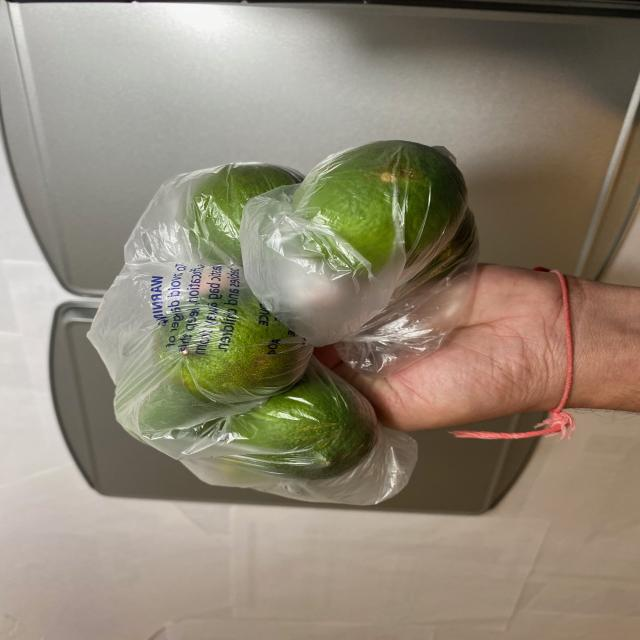lemon: (111, 136, 485, 483)
